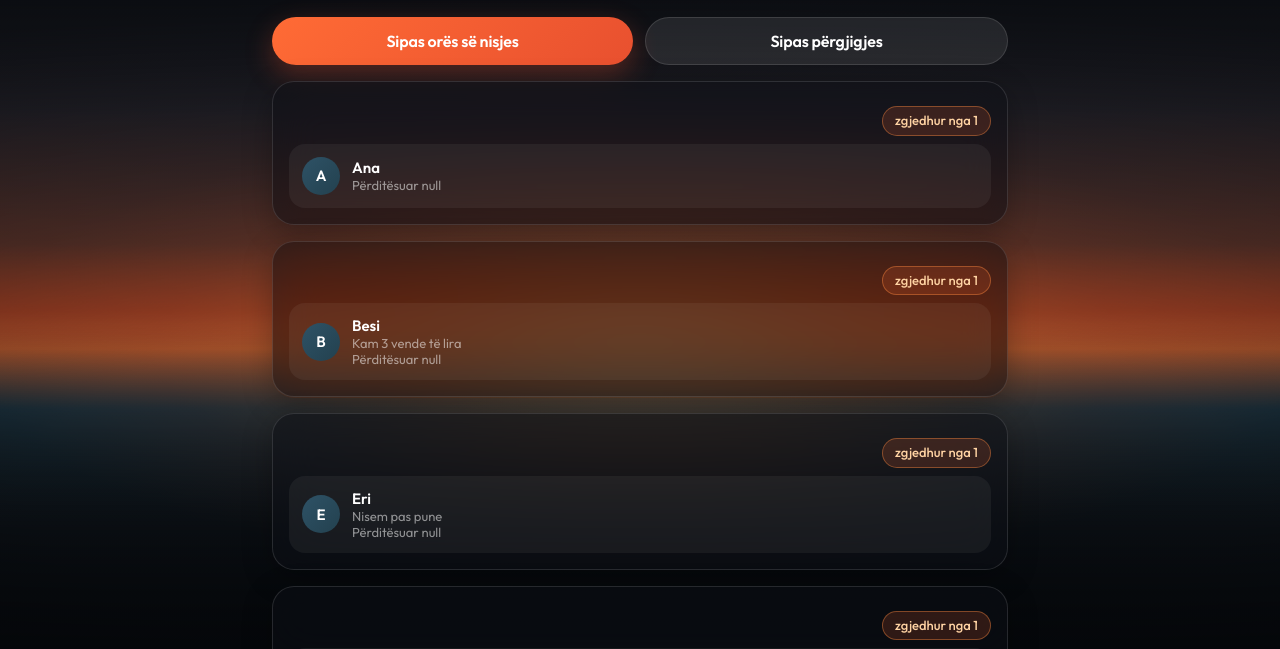
Test: <GroupResponsesScreen> › switches to grouping by response status
The width and height of the screenshot is (1280, 649).
Click the button "Sipas përgjigjes". click: click(826, 41)
box: [645,17,1008,65]
(page scrolled)
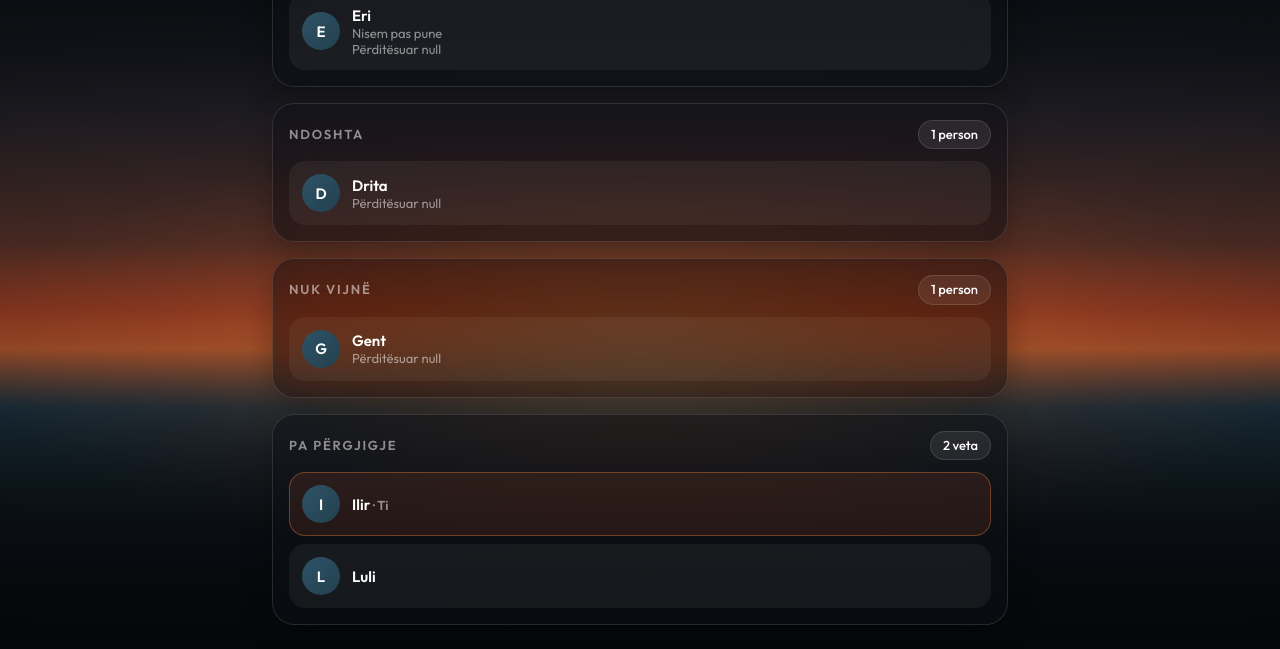
expect the text "Nuk vijnë" is shown: met, box [289,281,372,297]
expect the text "Ndoshta" is shown: met, box [289,126,364,142]
